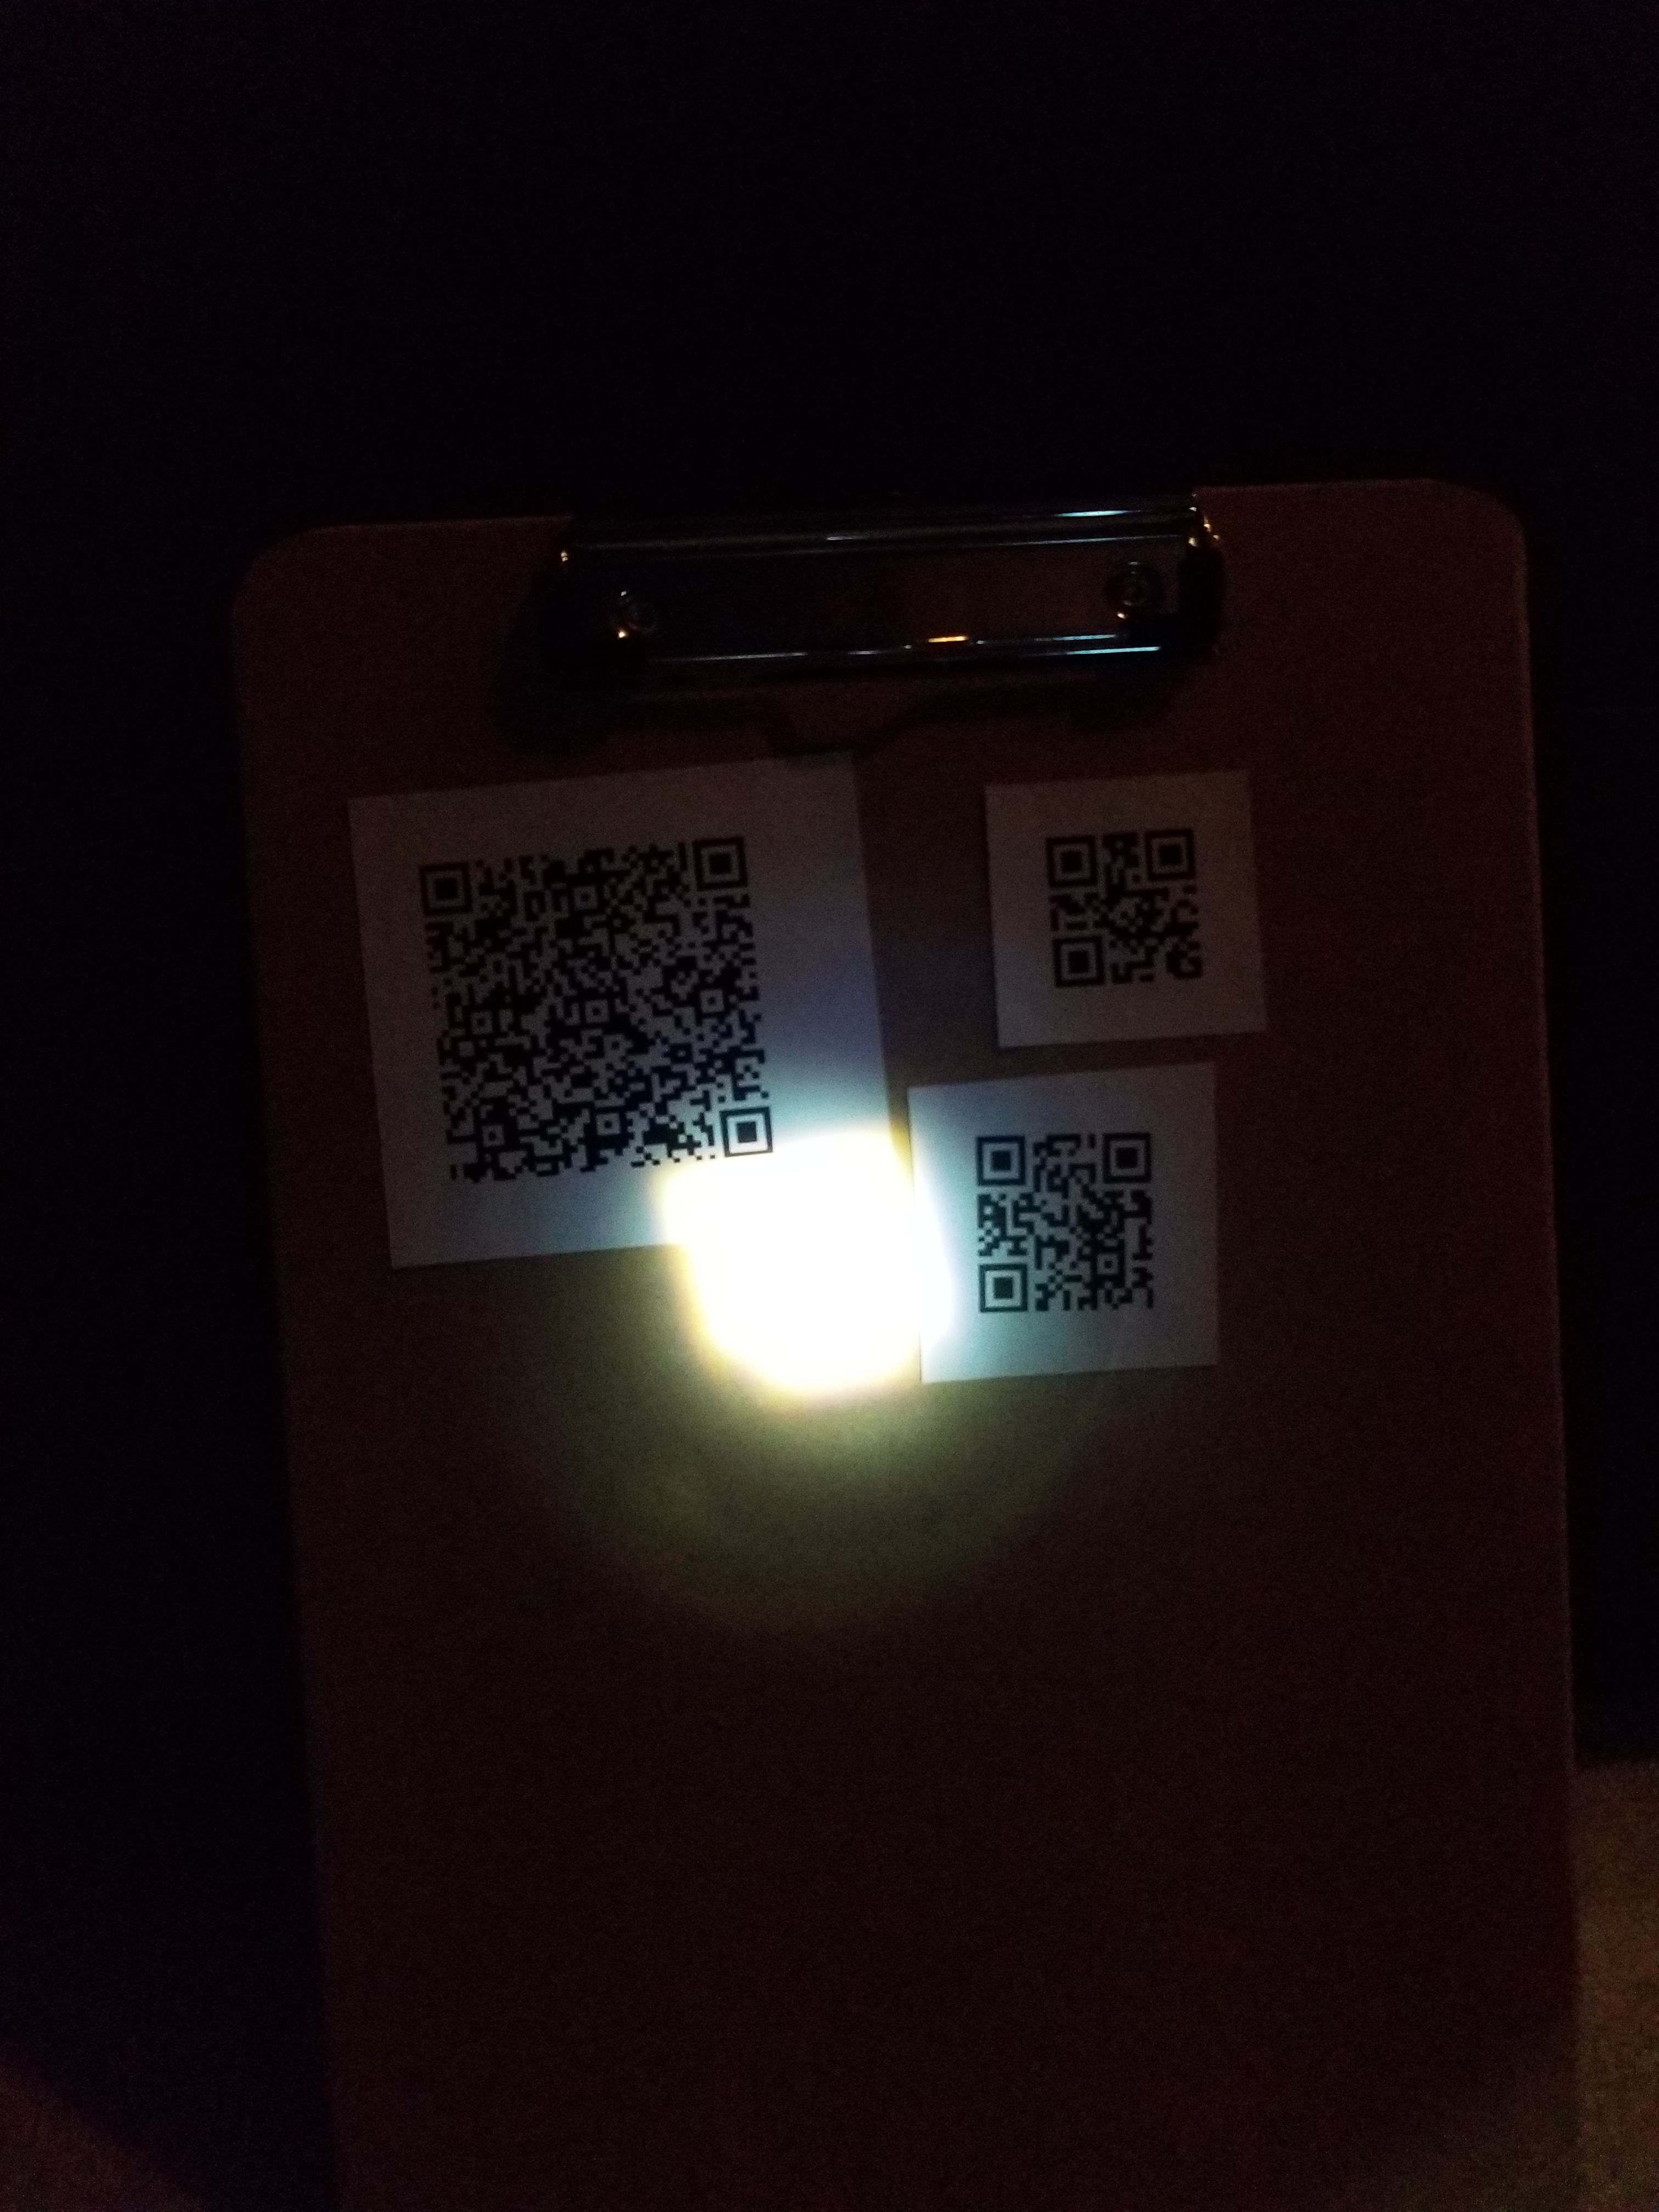QR_CODE: (385, 787, 800, 1212), (931, 1099, 1199, 1348), (1014, 791, 1236, 1019)
